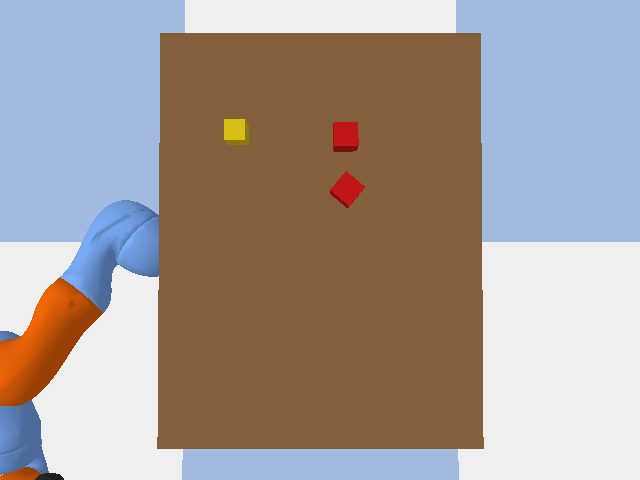red_obj: (330, 171, 364, 207), (333, 121, 358, 151)
yellow_obj: (224, 119, 248, 144)
